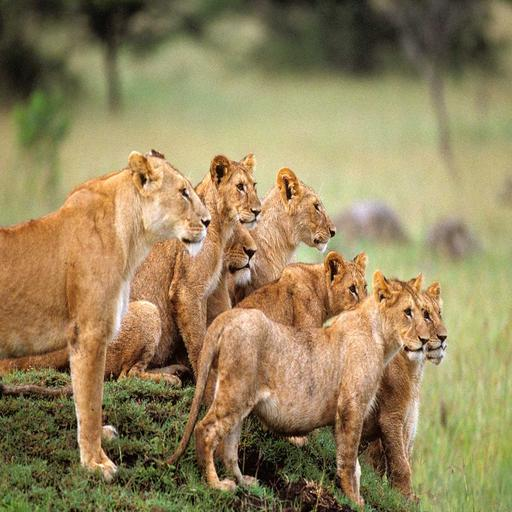Lion: (0, 135, 208, 493), (176, 276, 435, 512), (255, 272, 452, 512), (205, 247, 376, 512), (65, 217, 266, 408), (96, 151, 263, 379), (120, 166, 335, 340)
